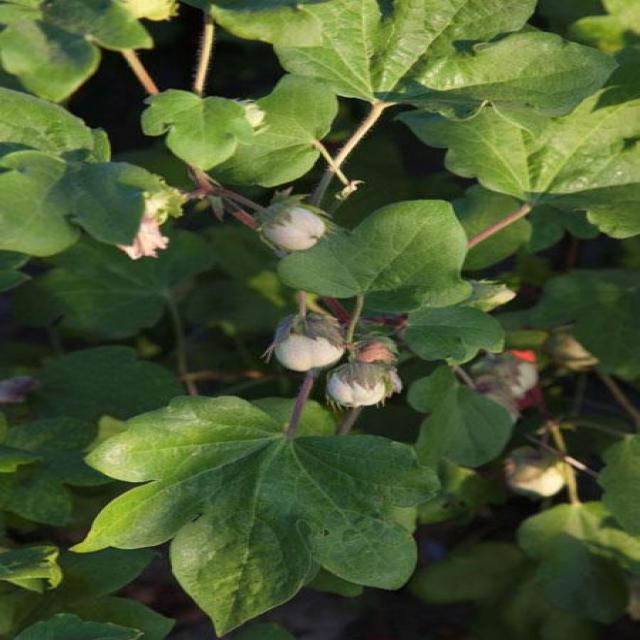Leaf: (243, 307, 357, 382), (308, 347, 415, 413), (232, 185, 330, 246)
